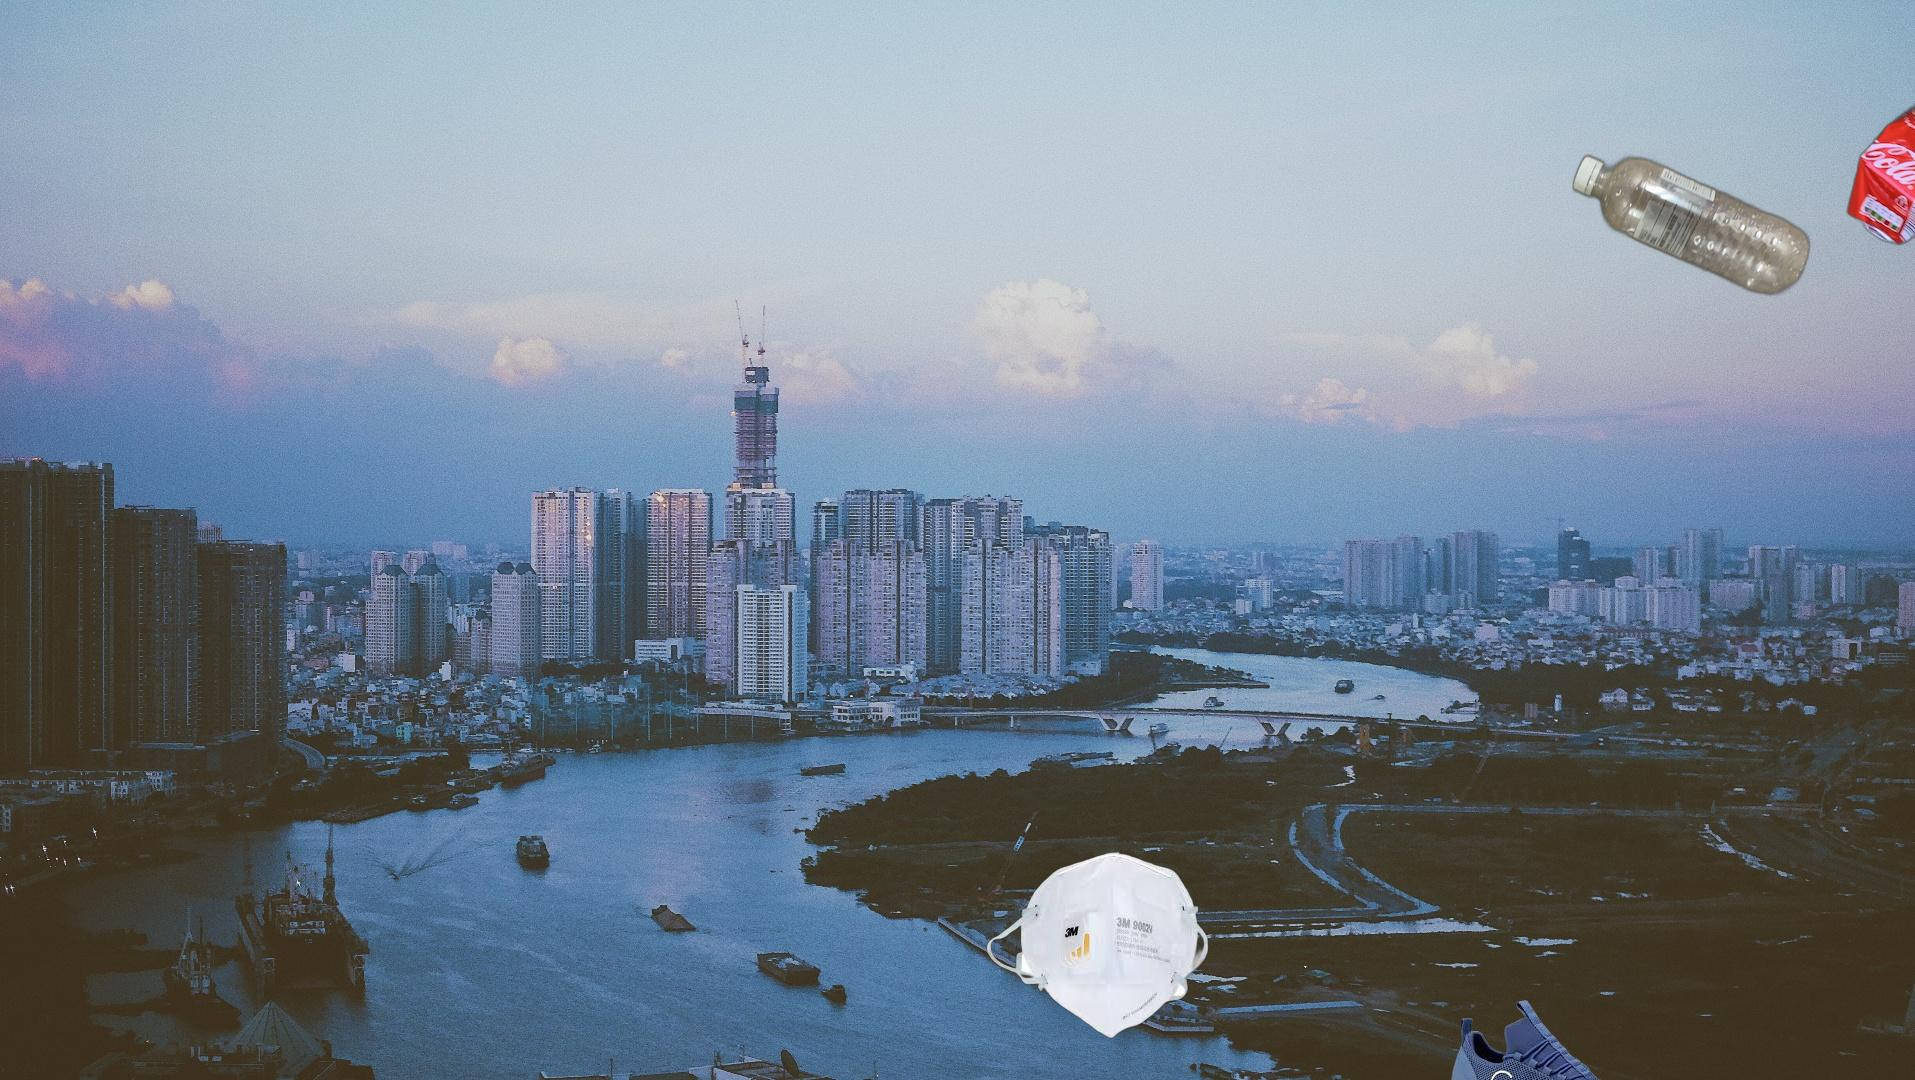metal-cans: (1843, 95, 1915, 251)
plastic-bottles: (1568, 149, 1812, 301)
shoes: (1448, 997, 1661, 1080)
trash: (985, 848, 1210, 1041)
